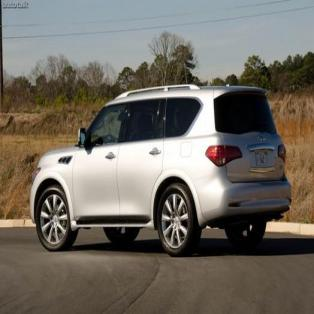Auto: (28, 81, 294, 258)
